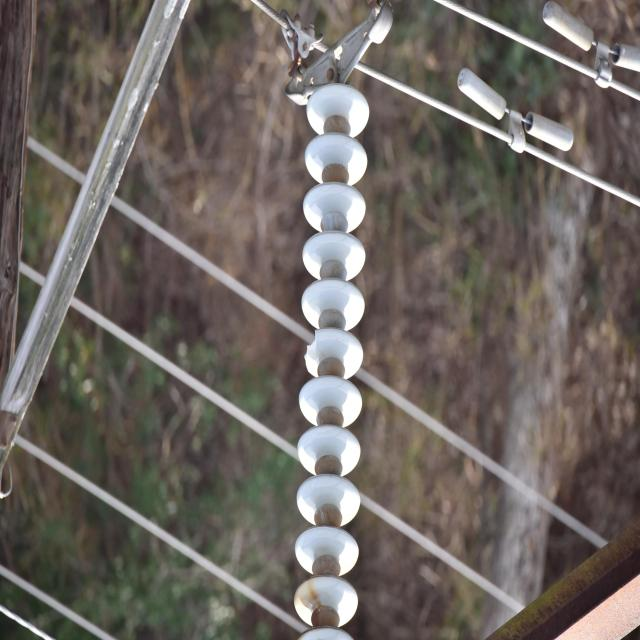broken: (302, 326, 322, 372)
insulator: (292, 82, 371, 637)
